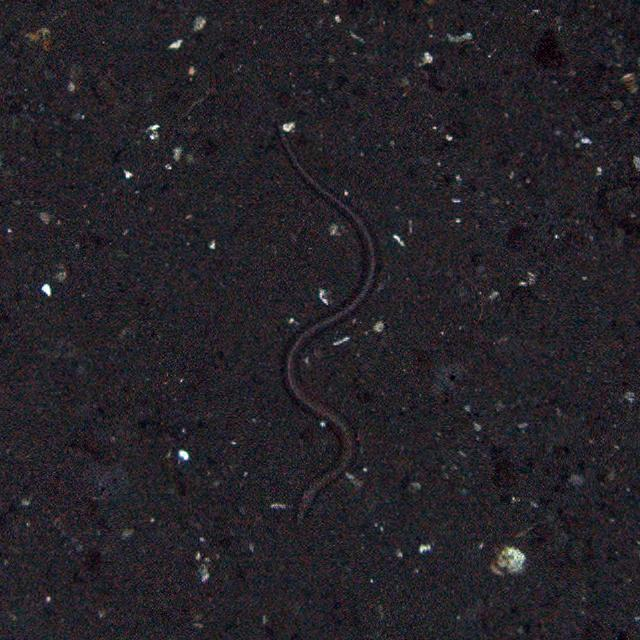eel: (266, 122, 376, 528)
